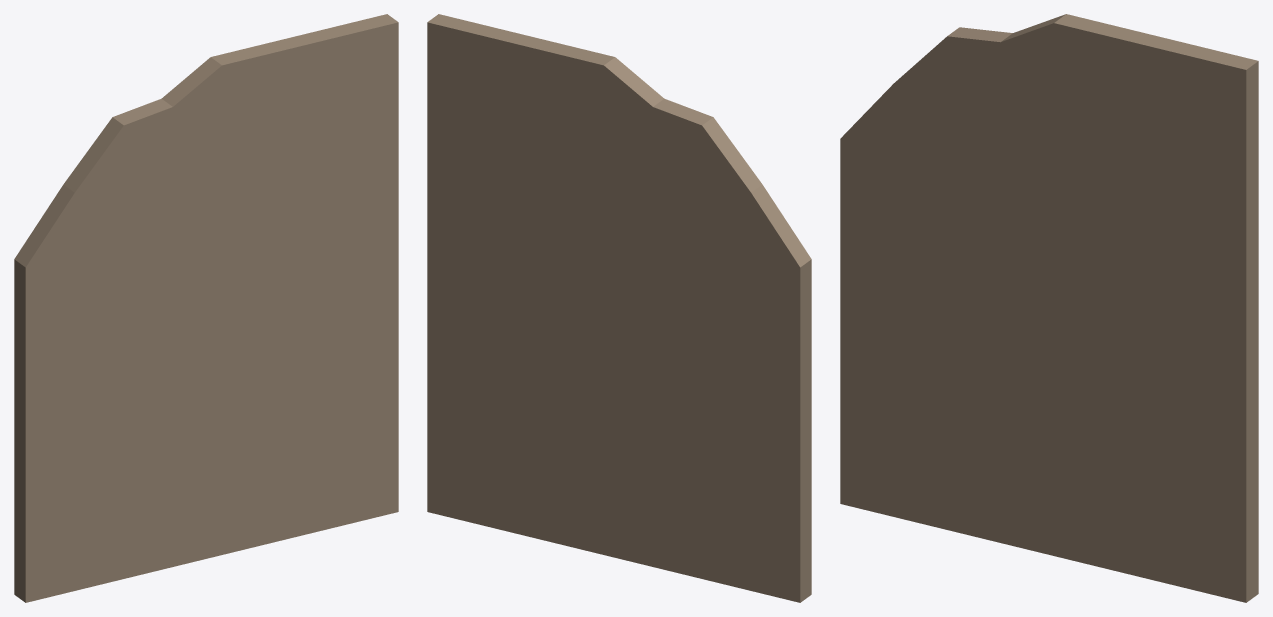
3 views of the same model, side by side, from view 1: azimuth 30°, elevation 25°; view 2: azimuth 150°, elevation 25°; view 3: azimuth 330°, elevation 25° (orthographic). The views are drawn at different scales.
Parts seen in each view (by area): view 1: Cube.009; view 2: Cube.009; view 3: Cube.009.
Part boxes in pixels (box(x1,y1,x2,y2)): Cube.009: box(14, 14, 398, 602); Cube.009: box(427, 14, 811, 602); Cube.009: box(840, 14, 1258, 602).
Size of the model in its own units: 1.59 by 2 by 0.0845.
